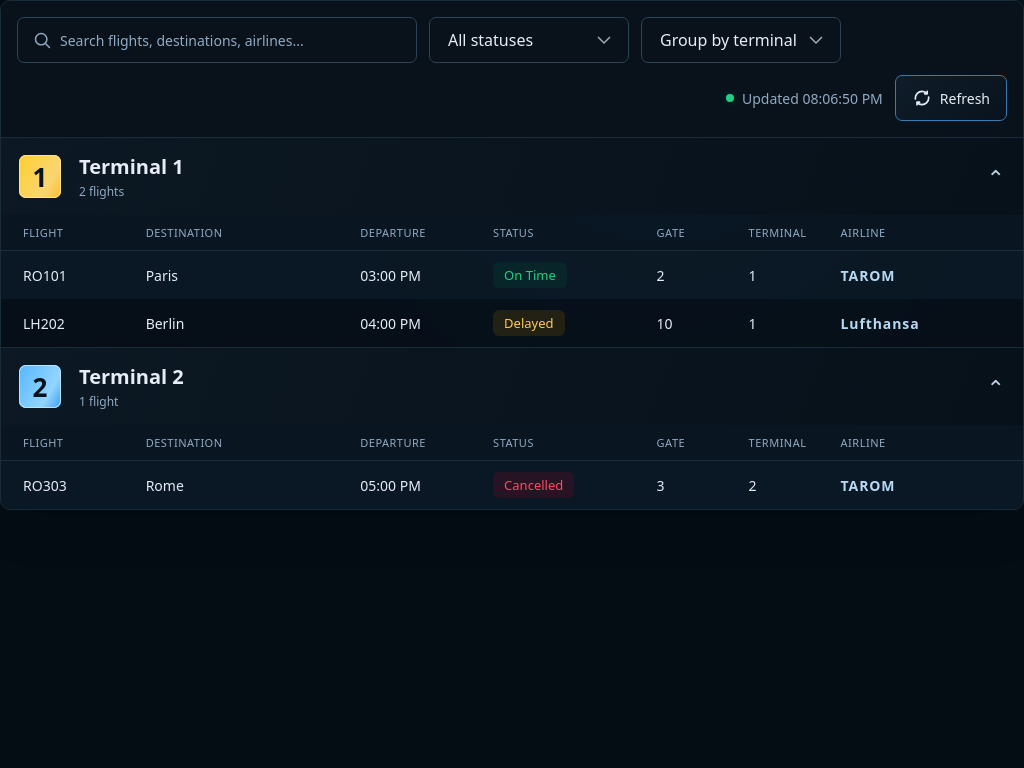
Test: FlightList integration › retains flights after refresh failure and clears the warning after recovery
Expected: the cell with test id "cell-flightNumber-1" is shown, [1,250,124,299]
Click the button with test id "refresh-button" at (951, 98), box [895,75,1007,121]
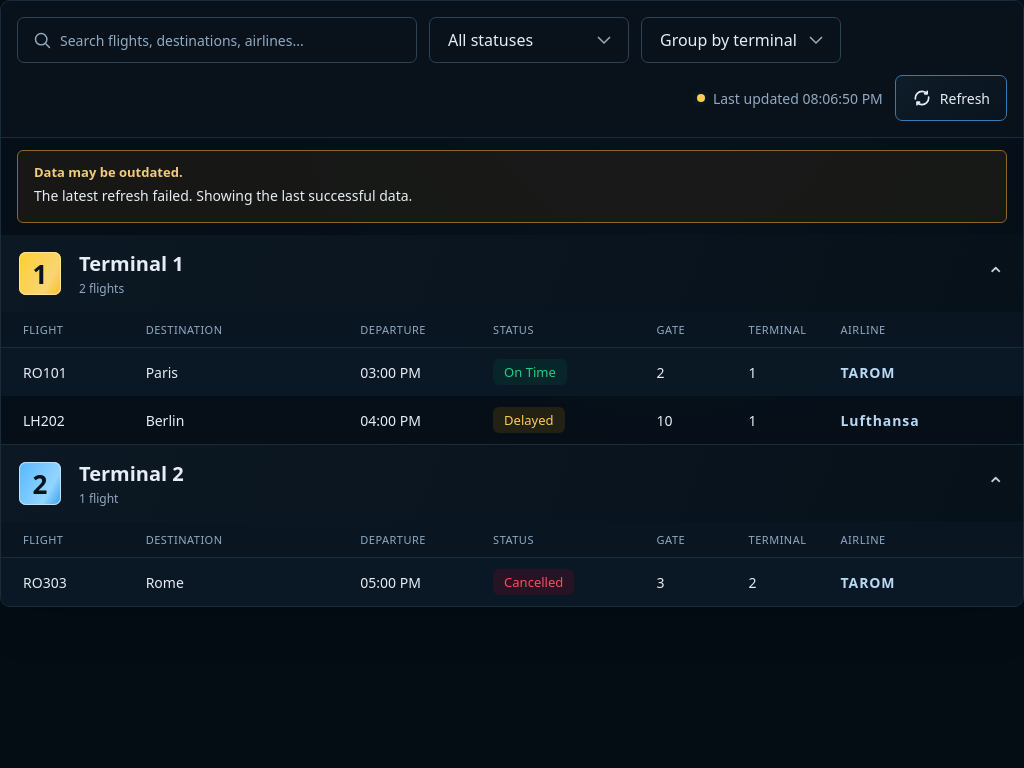
Expected: the cell with test id "cell-flightNumber-1" is shown, [1,348,124,396]
Result: the text with test id "error-title" reads "Data may be outdated." at [34,163,183,181]
Click the button with test id "refresh-button" at (951, 98), box [895,75,1007,121]
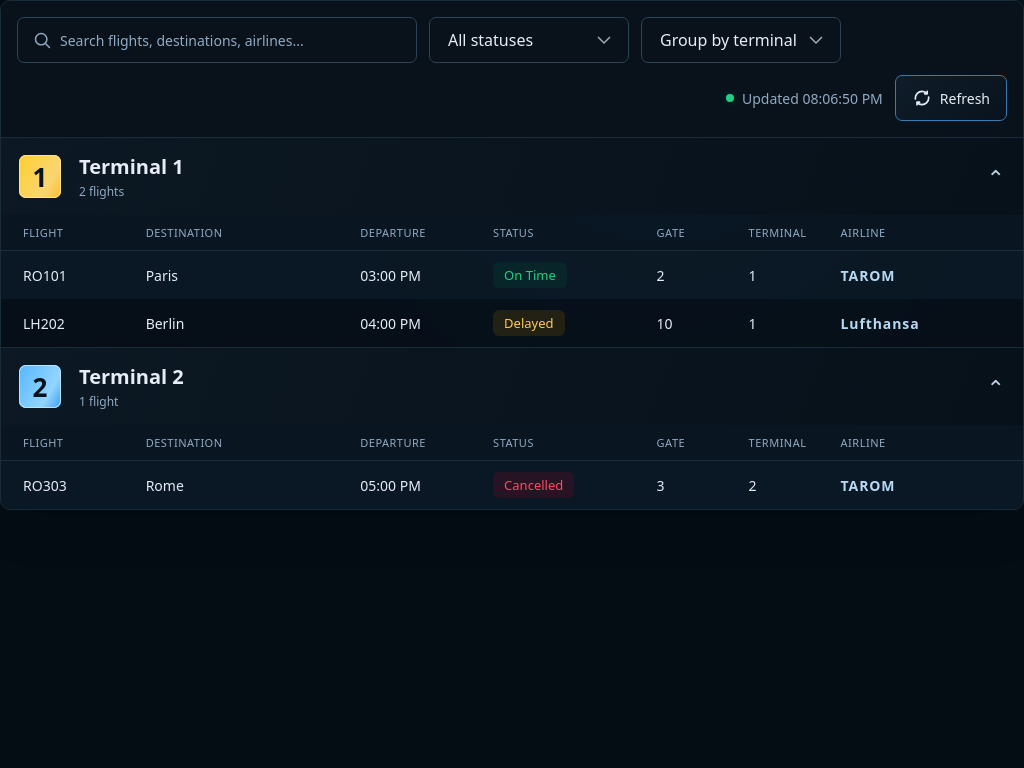
Result: the text with test id "error-title" is gone
